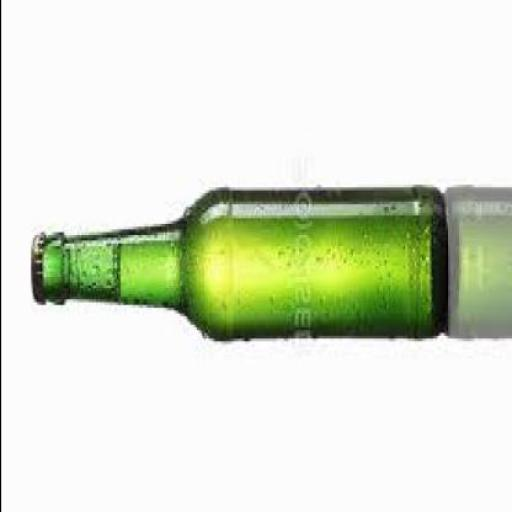glass: (39, 188, 443, 335)
metal: (28, 227, 45, 299)
